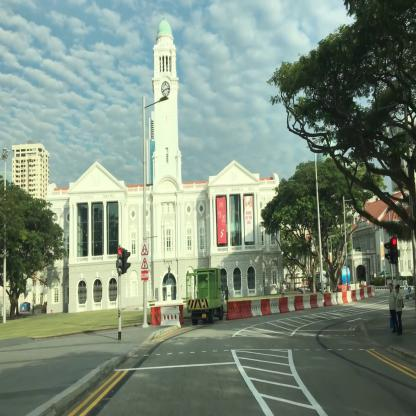red_traffic_light: (118, 247, 121, 273)
